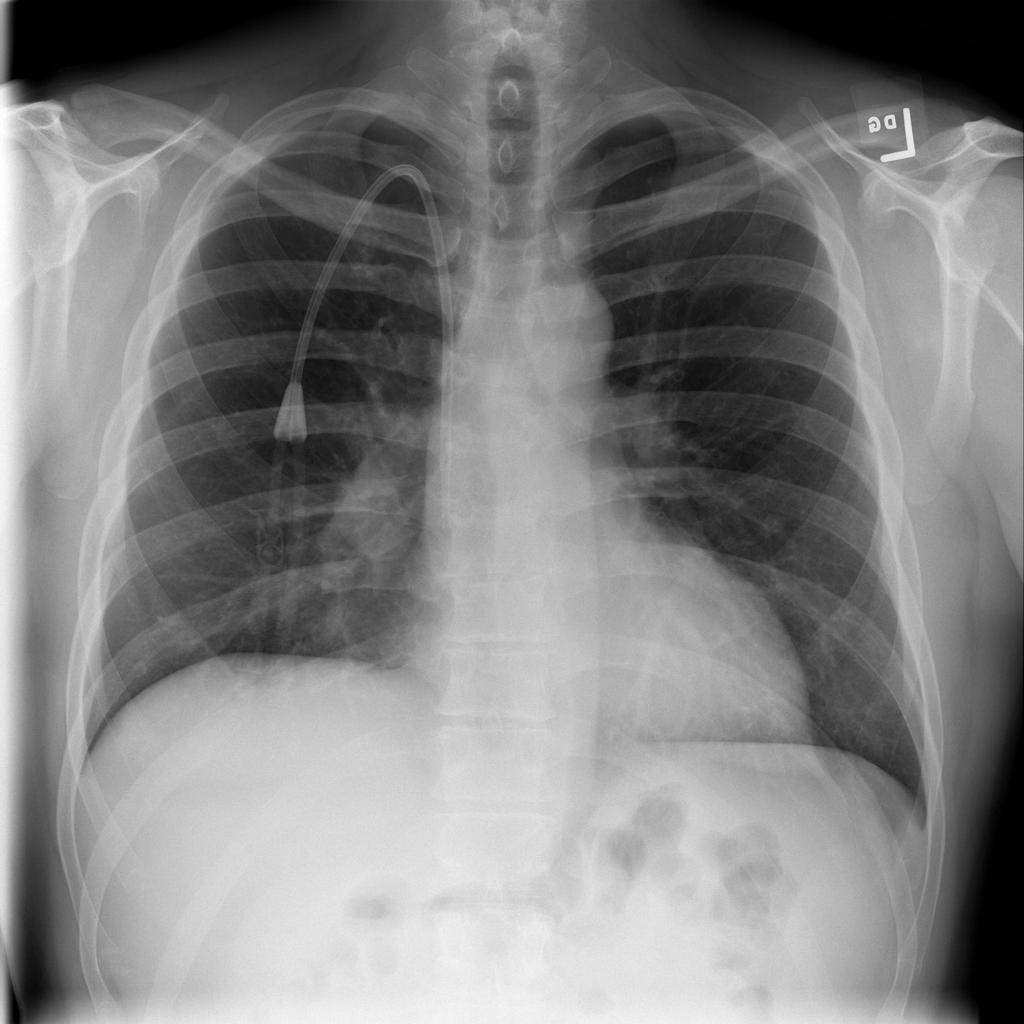nodule: (327, 452, 427, 576), (747, 503, 801, 549)
